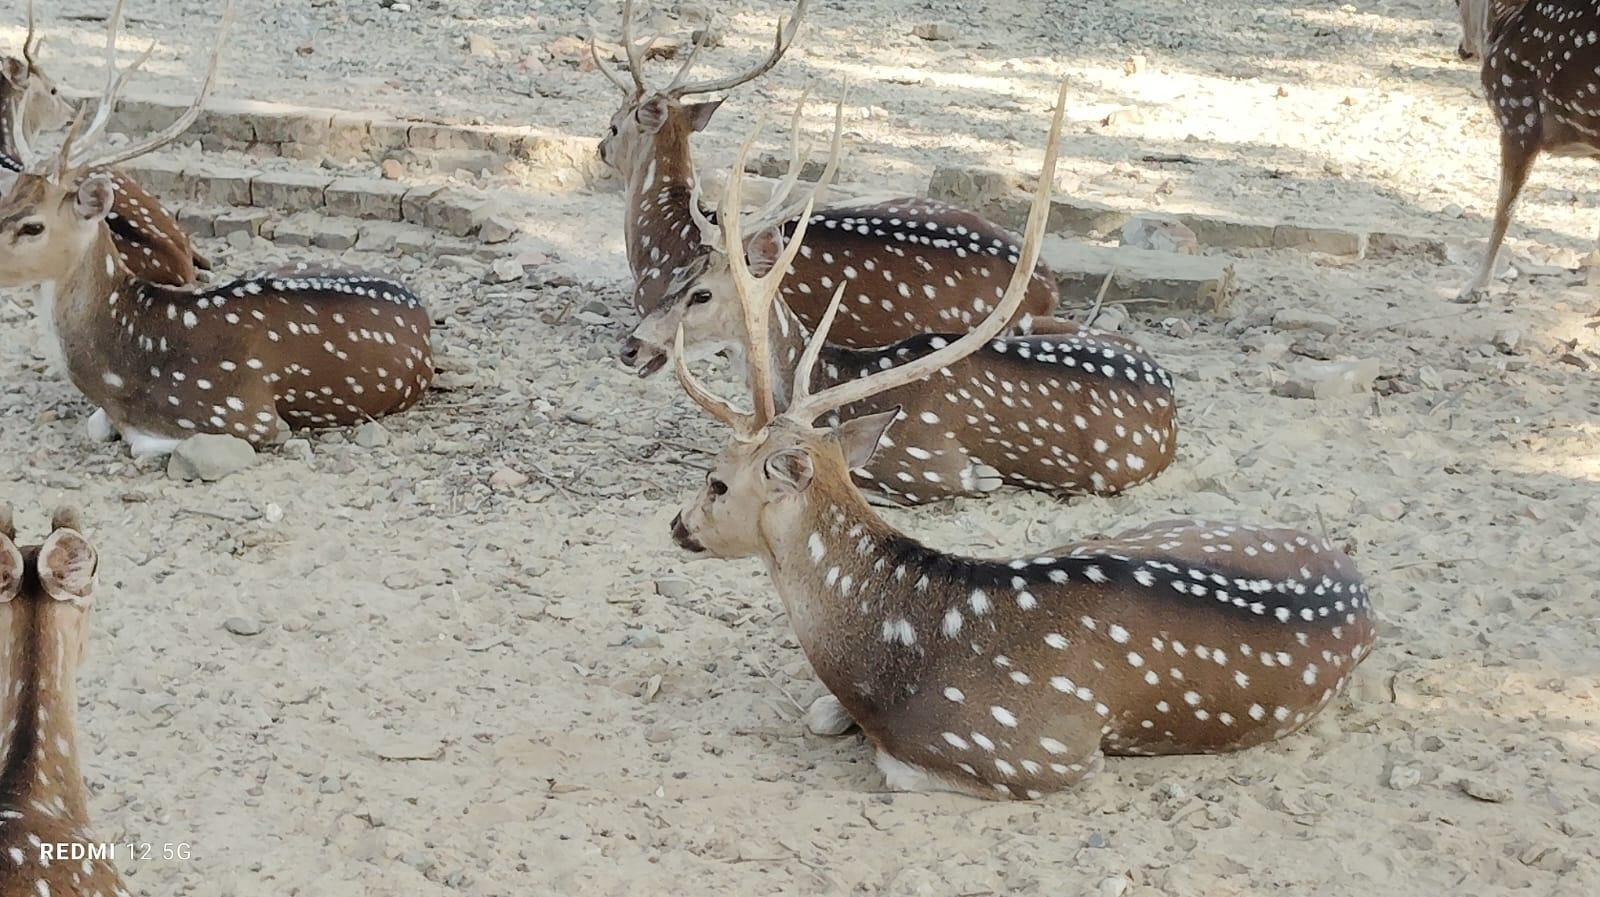Deer: (671, 82, 1373, 799), (0, 16, 433, 453), (595, 0, 808, 315)
